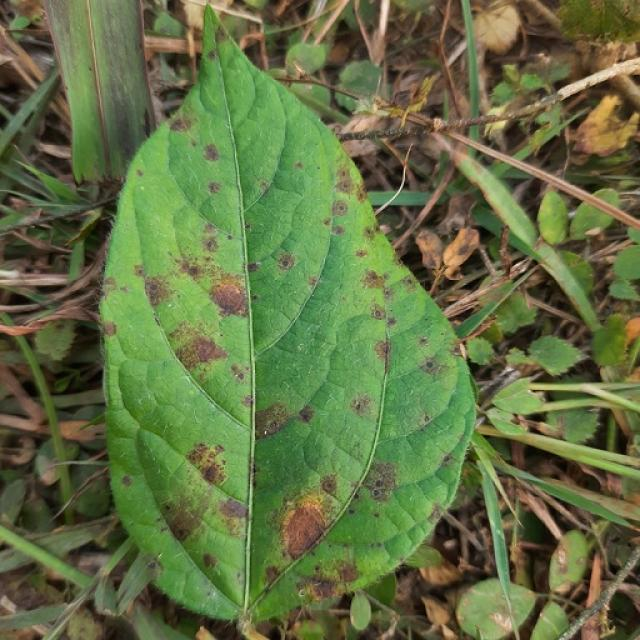Anthracnose: (199, 272, 259, 329), (283, 502, 328, 559), (254, 402, 294, 440), (362, 459, 399, 500), (176, 253, 218, 287), (186, 336, 229, 367), (210, 281, 247, 315), (219, 497, 247, 521), (310, 579, 338, 601), (144, 278, 166, 302), (350, 393, 372, 417), (419, 357, 442, 378), (362, 269, 384, 290), (202, 464, 222, 484), (229, 363, 248, 382), (276, 253, 296, 271), (202, 143, 220, 162), (321, 475, 338, 495), (298, 405, 315, 424), (332, 199, 348, 217), (204, 238, 219, 253), (102, 321, 116, 337), (185, 264, 201, 278), (372, 307, 385, 320), (246, 261, 260, 273), (249, 461, 258, 479), (121, 475, 133, 486), (355, 248, 368, 258), (425, 360, 436, 371), (418, 336, 429, 346)
Blackgram: (100, 14, 474, 619)
